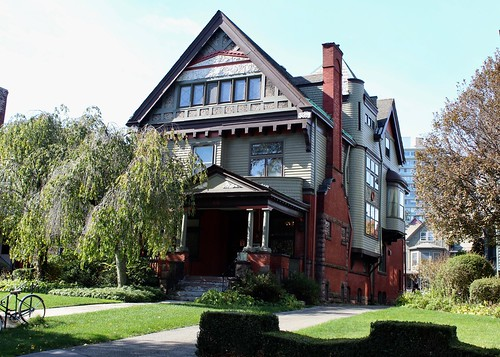medium: (121, 7, 408, 307)
